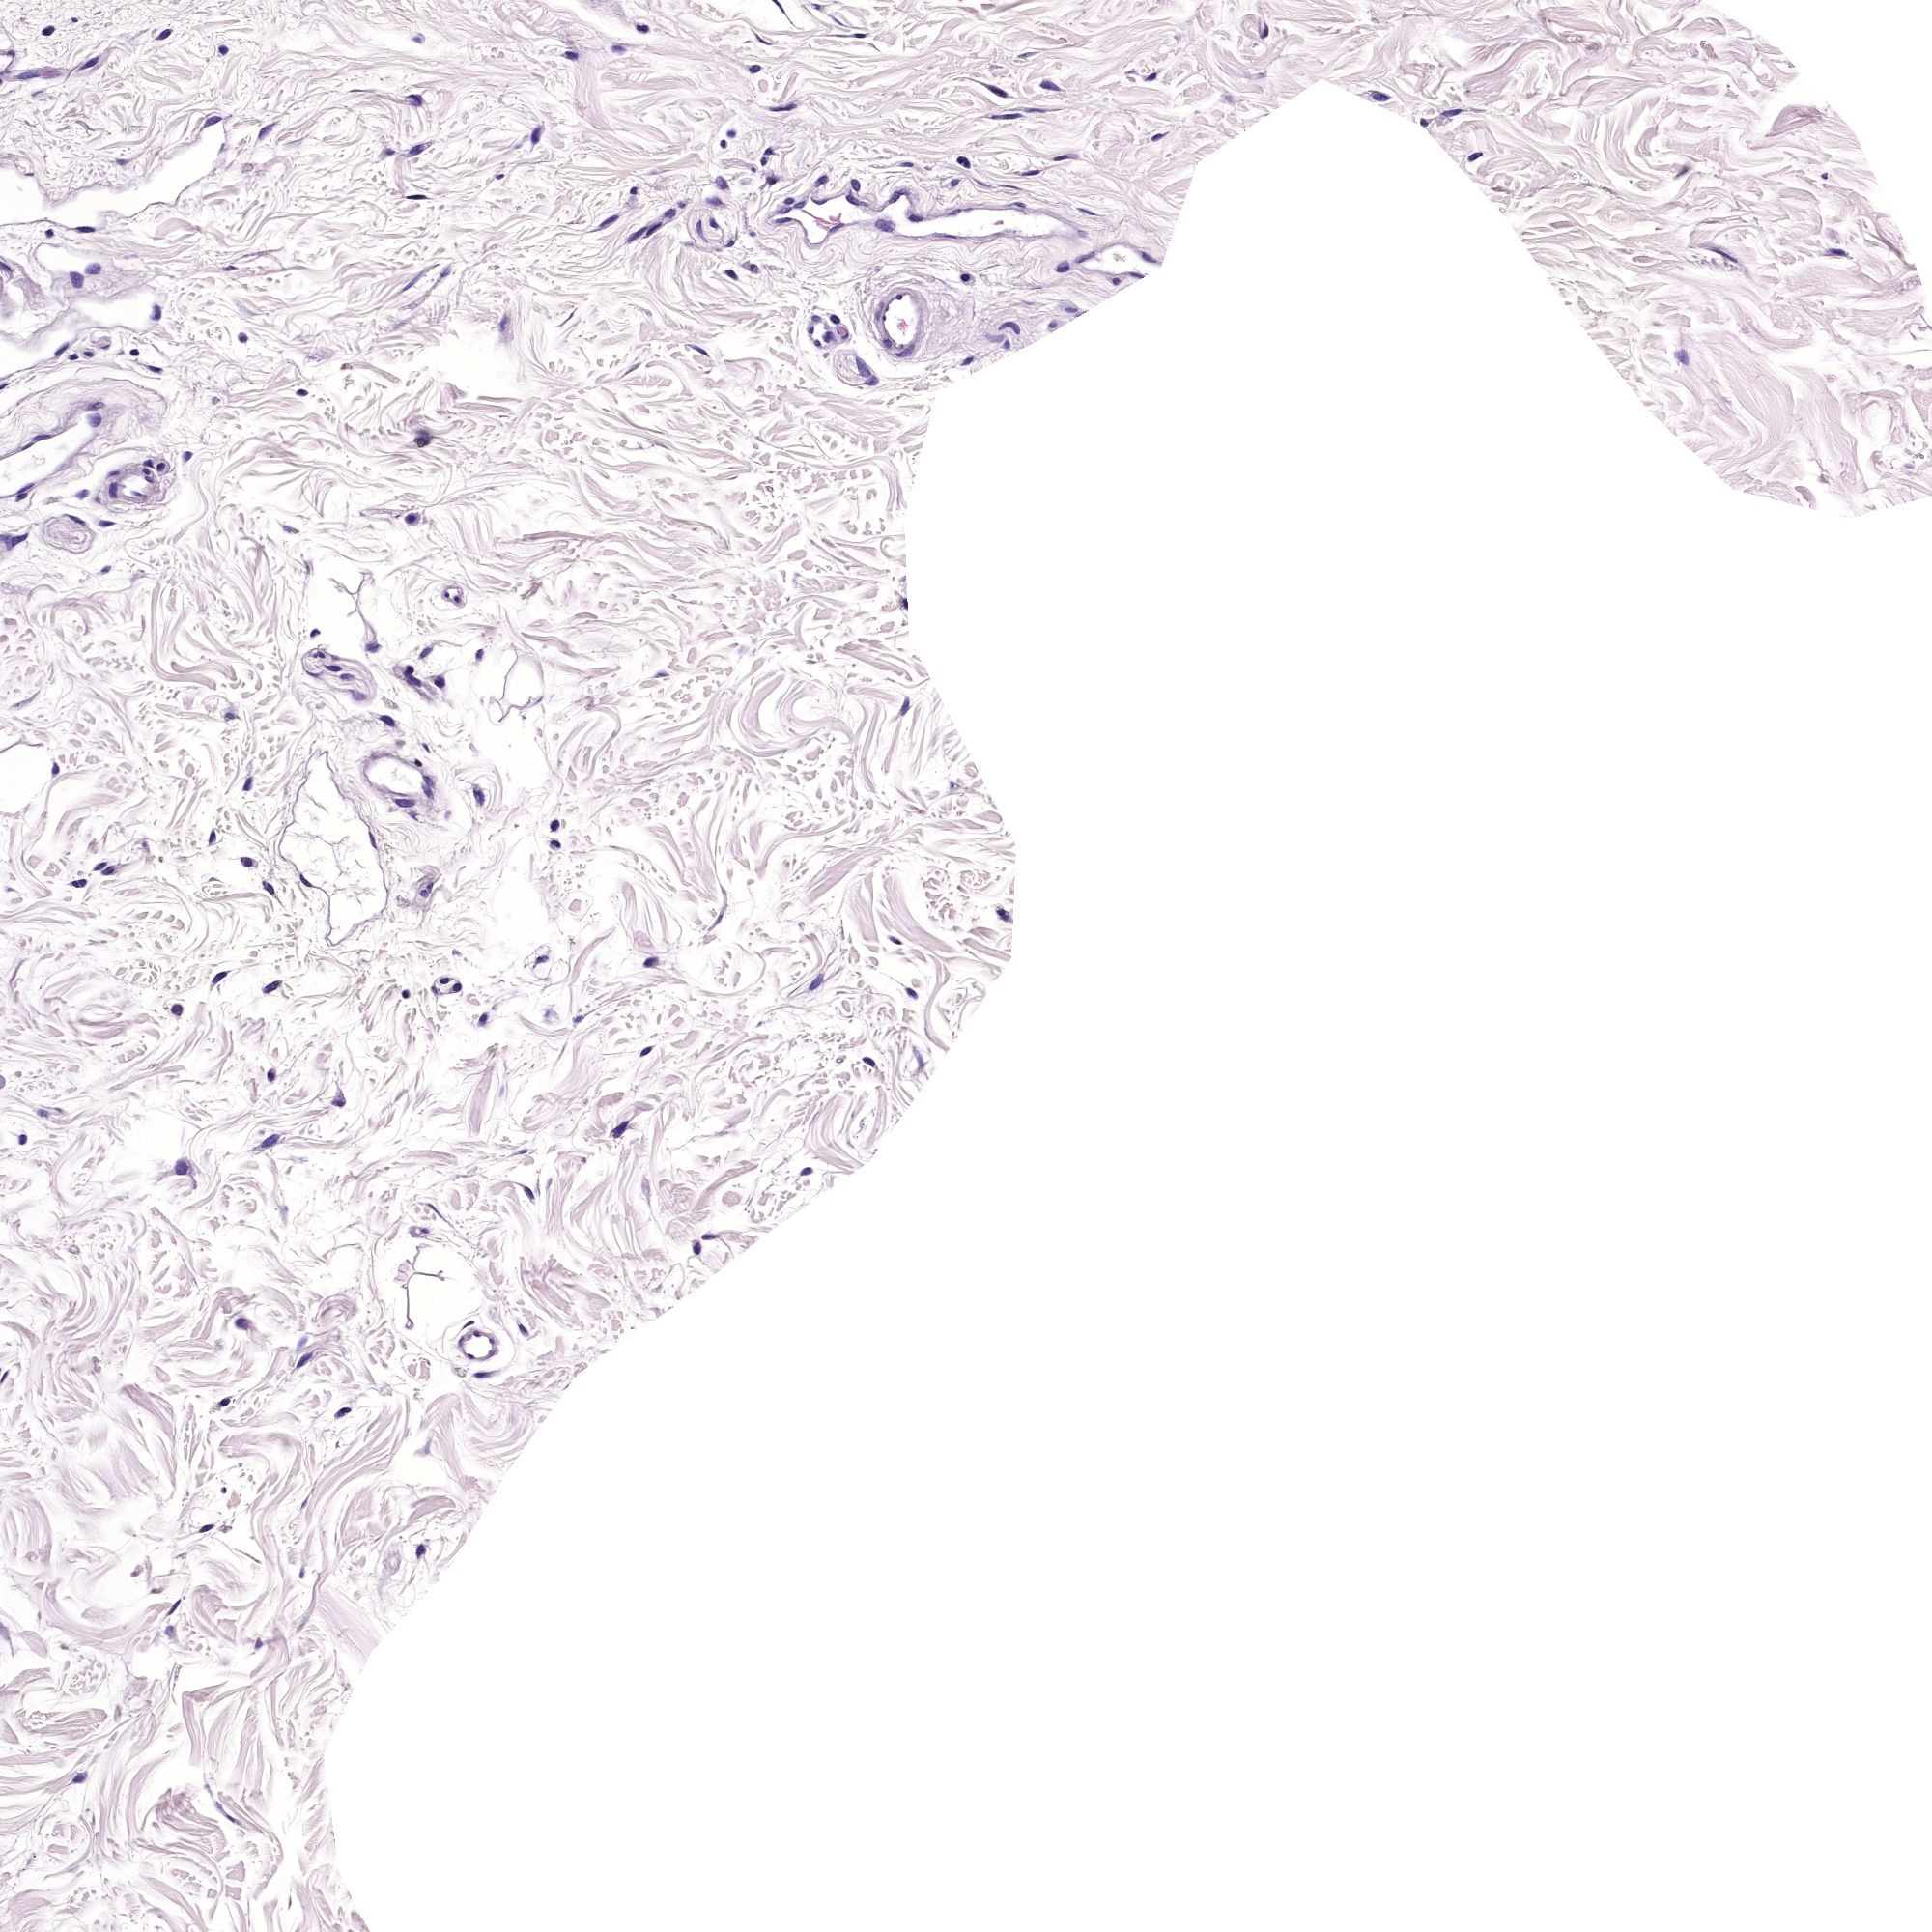fibroblast and endothelial: (269, 985, 278, 991), (862, 366, 867, 373), (87, 60, 96, 64), (633, 232, 640, 235), (156, 311, 159, 317), (768, 177, 771, 182), (720, 180, 725, 184), (713, 198, 718, 202), (1079, 257, 1083, 262), (92, 416, 96, 421), (119, 161, 126, 163), (414, 149, 418, 152), (731, 131, 734, 134), (609, 218, 610, 225), (750, 265, 754, 269), (798, 203, 801, 207), (964, 359, 968, 363), (16, 538, 19, 541), (19, 495, 23, 499), (23, 487, 27, 490), (92, 405, 99, 407), (389, 718, 393, 722), (428, 885, 432, 888), (267, 1139, 271, 1143), (805, 1169, 809, 1173), (303, 1357, 306, 1361), (203, 1527, 207, 1530), (651, 228, 656, 230), (1376, 96, 1382, 97), (186, 453, 188, 458), (145, 462, 150, 464), (113, 488, 115, 494), (104, 522, 110, 524), (76, 883, 81, 885), (180, 1164, 182, 1169), (481, 1375, 487, 1376), (25, 73, 27, 76), (163, 34, 166, 35), (211, 119, 212, 122), (94, 269, 97, 271), (568, 55, 571, 57), (782, 218, 784, 221), (853, 202, 856, 203), (1047, 85, 1051, 87), (1035, 108, 1037, 111), (1031, 172, 1035, 173), (904, 163, 908, 165), (1019, 203, 1023, 205), (1115, 280, 1116, 283), (1010, 322, 1014, 324), (833, 318, 837, 320), (826, 333, 828, 336), (846, 334, 847, 338), (886, 341, 890, 343), (1152, 76, 1155, 78), (1451, 111, 1454, 113), (1007, 341, 1008, 345), (154, 368, 156, 372), (115, 472, 119, 474), (83, 494, 85, 497), (104, 570, 108, 571), (55, 770, 58, 771), (226, 715, 230, 717), (248, 782, 249, 786), (334, 667, 338, 669), (357, 692, 359, 695), (425, 651, 426, 655), (304, 879, 306, 883), (246, 860, 248, 863), (101, 863, 103, 867), (338, 1097, 340, 1100), (522, 1148, 524, 1152), (617, 1129, 621, 1131), (340, 1410, 341, 1414), (301, 1504, 303, 1507), (228, 267, 230, 269), (416, 195, 418, 196), (534, 133, 536, 134), (778, 4, 780, 5), (763, 41, 764, 42), (816, 5, 817, 7), (782, 108, 784, 110), (768, 150, 770, 152), (752, 168, 754, 170), (713, 225, 715, 226), (729, 271, 731, 272), (784, 209, 786, 211), (821, 180, 823, 182), (855, 182, 856, 184), (821, 202, 823, 203), (915, 218, 916, 219), (885, 226, 886, 228), (835, 226, 837, 228), (996, 90, 998, 92), (1007, 117, 1008, 119), (1012, 186, 1014, 188), (814, 318, 816, 320), (1265, 32, 1267, 34), (699, 350, 701, 352), (74, 518, 76, 520), (39, 435, 41, 437), (318, 653, 320, 655), (373, 646, 375, 648), (347, 676, 349, 678), (483, 1017, 485, 1019), (218, 977, 219, 978), (423, 890, 425, 892), (432, 1205, 433, 1207), (527, 1191, 529, 1192), (646, 1049, 648, 1051), (708, 1237, 709, 1238), (476, 1334, 478, 1336), (469, 1322, 471, 1323), (225, 1401, 226, 1403)
inflammatory: (962, 157, 968, 163), (409, 517, 414, 520), (439, 679, 442, 685), (646, 961, 649, 964), (46, 28, 50, 30), (418, 39, 421, 41), (303, 391, 304, 395), (313, 630, 317, 632), (271, 1076, 272, 1079), (642, 28, 644, 30), (88, 352, 90, 354), (556, 842, 557, 844)
lymphocyte: (908, 991, 913, 996), (754, 65, 757, 71), (895, 939, 899, 943), (410, 667, 412, 672), (724, 143, 725, 147), (426, 791, 428, 794), (812, 982, 814, 985), (223, 50, 225, 51), (405, 801, 407, 803)
